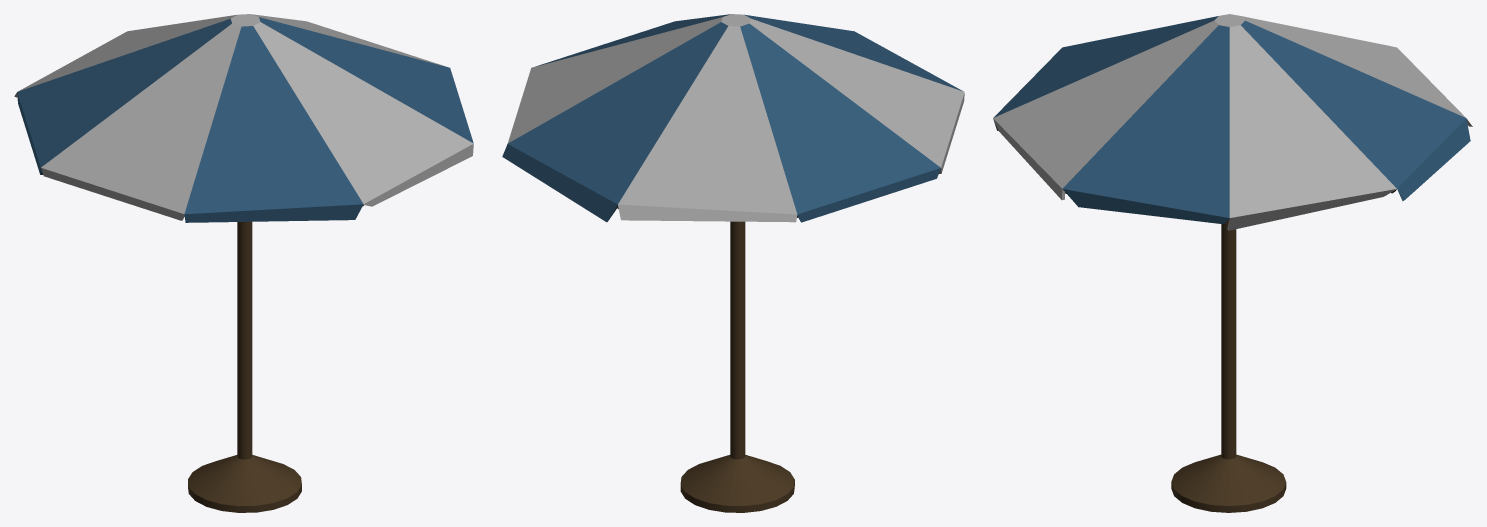
File: parasoll.fbx
3 renders of one model, left to right at view 1: azimuth 30°, elevation 25°; view 2: azimuth 150°, elevation 25°; view 3: azimuth 270°, elevation 25°, orthographic.
Visible parts, largest first — view 1: polySurface182; view 2: polySurface182; view 3: polySurface182.
Boxes of the visible parts, x1,y1,x2,y2 form: polySurface182: (14, 14, 473, 512); polySurface182: (502, 14, 964, 512); polySurface182: (993, 14, 1472, 512).
Size of the model in its own units: 8.81 by 9.63 by 8.94.
